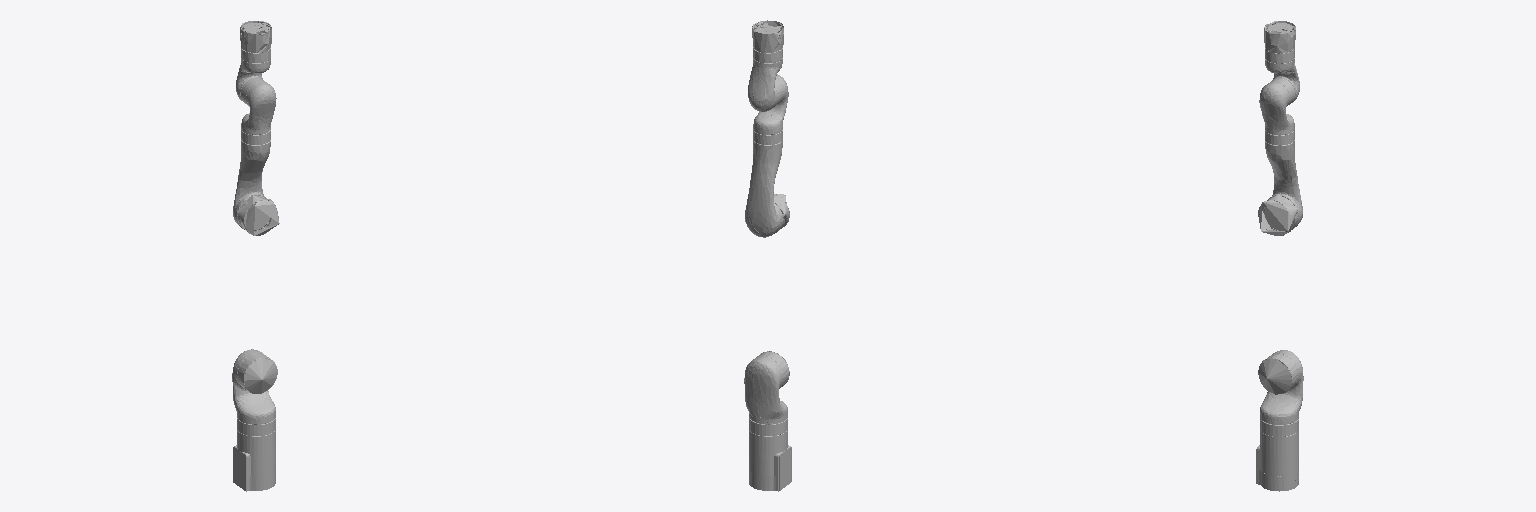
URDF robot description (gen3):
<?xml version="1.0" ?>
<robot name="gen3">
  <link name="world"/>
  
  <joint name="base_joint" type="fixed">
    <origin rpy="0 0 0" xyz="0 0 0"/>
    <parent link="world"/>
    <child link="base_link"/>
  </joint>
  <link name="base_link">
    <inertial>
      <origin rpy="0 0 0" xyz="-0.000648 -0.000166 0.084487"/>
      <mass value="1.697"/>
      <inertia ixx="0.004622" ixy="9E-06" ixz="6E-05" iyy="0.004495" iyz="9E-06" izz="0.002079"/>
    </inertial>
    <visual>
      <origin rpy="0 0 0" xyz="0 0 0"/>
      <geometry>
        <mesh filename="package://kortex_description/arms/gen3/6dof/meshes/base_link.STL"/>
      </geometry>
      <material name="">
        <color rgba="0.75294 0.75294 0.75294 1"/>
      </material>
    </visual>
    
  </link>
  <link name="shoulder_link">
    <inertial>
      <origin rpy="0 0 0" xyz="-2.3E-05 -0.010364 -0.07336"/>
      <mass value="1.377"/>
      <inertia ixx="0.00457" ixy="1E-06" ixz="2E-06" iyy="0.004831" iyz="0.000448" izz="0.001409"/>
    </inertial>
    <visual>
      <origin rpy="0 0 0" xyz="0 0 0"/>
      <geometry>
        <mesh filename="package://kortex_description/arms/gen3/6dof/meshes/shoulder_link.STL"/>
      </geometry>
      <material name="">
        <color rgba="0.75294 0.75294 0.75294 1"/>
      </material>
    </visual>
    
  </link>
  <joint name="joint_1" type="continuous">
    <origin rpy="-3.1416 0.0 0.0" xyz="0 0 0.15643"/>
    <parent link="base_link"/>
    <child link="shoulder_link"/>
    <axis xyz="0 0 1"/>
    <limit effort="39" velocity="1.3963"/>
  </joint>
  <link name="bicep_link">
    <inertial>
      <origin rpy="0 0 0" xyz="3.5E-05 -0.208207 -0.01889"/>
      <mass value="1.262"/>
      <inertia ixx="0.046752" ixy="-9E-06" ixz="0" iyy="0.00085" iyz="-9.8E-05" izz="0.047188"/>
    </inertial>
    <visual>
      <origin rpy="0 0 0" xyz="0 0 0"/>
      <geometry>
        <mesh filename="package://kortex_description/arms/gen3/6dof/meshes/bicep_link.STL"/>
      </geometry>
      <material name="">
        <color rgba="0.75294 0.75294 0.75294 1"/>
      </material>
    </visual>
    
  </link>
  <joint name="joint_2" type="revolute">
    <origin rpy="1.5708 0.0 0.0" xyz="0 0.005375 -0.12838"/>
    <parent link="shoulder_link"/>
    <child link="bicep_link"/>
    <axis xyz="0 0 1"/>
    <limit effort="39" lower="-2.24" upper="2.24" velocity="1.3963"/>
  </joint>
  <link name="forearm_link">
    <inertial>
      <origin rpy="0 0 0" xyz="1.8E-05 0.076168 -0.01397"/>
      <mass value="0.93"/>
      <inertia ixx="0.008292" ixy="-1E-06" ixz="0" iyy="0.000628" iyz="0.000432" izz="0.008464"/>
    </inertial>
    <visual>
      <origin rpy="0 0 0" xyz="0 0 0"/>
      <geometry>
        <mesh filename="package://kortex_description/arms/gen3/6dof/meshes/forearm_link.STL"/>
      </geometry>
      <material name="">
        <color rgba="0.75294 0.75294 0.75294 1"/>
      </material>
    </visual>
    
  </link>
  <joint name="joint_3" type="revolute">
    <origin rpy="3.1416 0 0" xyz="0 -0.41 0"/>
    <parent link="bicep_link"/>
    <child link="forearm_link"/>
    <axis xyz="0 0 1"/>
    <limit effort="39" lower="-2.57" upper="2.57" velocity="1.3963"/>
  </joint>
  <link name="spherical_wrist_1_link">
    <inertial>
      <origin rpy="0 0 0" xyz="-1E-06 0.008486 -0.062937"/>
      <mass value="0.6781"/>
      <inertia ixx="0.001645" ixy="0" ixz="0" iyy="0.001666" iyz="-0.000234" izz="0.000389"/>
    </inertial>
    <visual>
      <origin rpy="0 0 0" xyz="0 0 0"/>
      <geometry>
        <mesh filename="package://kortex_description/arms/gen3/6dof/meshes/spherical_wrist_1_link.STL"/>
      </geometry>
      <material name="">
        <color rgba="0.75294 0.75294 0.75294 1"/>
      </material>
    </visual>
    
  </link>
  <joint name="joint_4" type="continuous">
    <origin rpy="1.5708 0.0 0.0" xyz="0 0.20843 -0.006375"/>
    <parent link="forearm_link"/>
    <child link="spherical_wrist_1_link"/>
    <axis xyz="0 0 1"/>
    <limit effort="9" velocity="1.2218"/>
  </joint>
  <link name="spherical_wrist_2_link">
    <inertial>
      <origin rpy="0 0 0" xyz="-1E-06 0.046429 -0.008704"/>
      <mass value="0.678"/>
      <inertia ixx="0.001685" ixy="0" ixz="0" iyy="0.0004" iyz="0.000255" izz="0.001696"/>
    </inertial>
    <visual>
      <origin rpy="0 0 0" xyz="0 0 0"/>
      <geometry>
        <mesh filename="package://kortex_description/arms/gen3/6dof/meshes/spherical_wrist_2_link.STL"/>
      </geometry>
      <material name="">
        <color rgba="0.75294 0.75294 0.75294 1"/>
      </material>
    </visual>
    
  </link>
  <joint name="joint_5" type="revolute">
    <origin rpy="-1.5708 0.0 0.0" xyz="0 -0.00017505 -0.10593"/>
    <parent link="spherical_wrist_1_link"/>
    <child link="spherical_wrist_2_link"/>
    <axis xyz="0 0 1"/>
    <limit effort="9" lower="-2.09" upper="2.09" velocity="1.2218"/>
  </joint>
  <link name="bracelet_link">
    <inertial>
      <origin rpy="0 0 0" xyz="-9.3E-05 0.000132 -0.022905"/>
      <mass value="0.364"/>
      <inertia ixx="0.000214" ixy="0" ixz="1E-06" iyy="0.000223" iyz="-2E-06" izz="0.00024"/>
    </inertial>
    <visual>
      <origin rpy="0 0 0" xyz="0 0 0"/>
      <geometry>
        <mesh filename="package://kortex_description/arms/gen3/6dof/meshes/bracelet_no_vision_link.STL"/>
      </geometry>
      <material name="">
        <color rgba="0.75294 0.75294 0.75294 1"/>
      </material>
    </visual>
    
  </link>
  <joint name="joint_6" type="continuous">
    <origin rpy="1.5708 0.0 0.0" xyz="0 0.10593 -0.00017505"/>
    <parent link="spherical_wrist_2_link"/>
    <child link="bracelet_link"/>
    <axis xyz="0 0 1"/>
    <limit effort="9" velocity="1.2218"/>
  </joint>
  <link name="end_effector_link"/>
  <joint name="end_effector" type="fixed">
    <origin rpy="3.14159265358979 1.09937075168372E-32 3.14159265358979" xyz="0 0 -0.0615250000000001"/>
    <parent link="bracelet_link"/>
    <child link="end_effector_link"/>
    <axis xyz="0 0 0"/>
  </joint>
  <link name="tool_frame"/>
  <joint name="tool_frame_joint" type="fixed">
    <origin rpy="0 0 0" xyz="0 0 0"/>
    <parent link="end_effector_link"/>
    <child link="tool_frame"/>
    <axis xyz="0 0 0"/>
  </joint>
</robot>

--- Render facts (derived) ---
3 views of the same robot in one strip: view 1: azimuth 30°, elevation 25°; view 2: azimuth 150°, elevation 25°; view 3: azimuth 330°, elevation 25° (orthographic).
Robot: gen3 — 10 links, 9 joints (3 revolute, 3 continuous, 3 fixed); root link world; default pose: every joint at zero.
Visible links, largest first — view 1: base_link, forearm_link, bicep_link, shoulder_link, spherical_wrist_1_link, bracelet_link, spherical_wrist_2_link; view 2: forearm_link, base_link, shoulder_link, spherical_wrist_2_link, spherical_wrist_1_link, bracelet_link; view 3: base_link, forearm_link, bicep_link, shoulder_link, spherical_wrist_1_link, bracelet_link, spherical_wrist_2_link.
Boxes of the visible links, x1,y1,x2,y2 form: base_link: (233, 418, 275, 491); forearm_link: (233, 130, 270, 231); bicep_link: (236, 195, 279, 393); shoulder_link: (232, 349, 275, 424); spherical_wrist_1_link: (241, 77, 276, 134); bracelet_link: (240, 21, 271, 52); spherical_wrist_2_link: (236, 48, 270, 100); forearm_link: (745, 129, 784, 237); base_link: (749, 418, 791, 491); shoulder_link: (744, 351, 788, 424); spherical_wrist_2_link: (748, 47, 782, 111); spherical_wrist_1_link: (753, 74, 788, 134); bracelet_link: (752, 20, 783, 52); base_link: (1256, 419, 1298, 491); forearm_link: (1263, 130, 1302, 231); bicep_link: (1258, 194, 1297, 394); shoulder_link: (1259, 350, 1303, 424); spherical_wrist_1_link: (1259, 78, 1294, 135); bracelet_link: (1264, 21, 1295, 53); spherical_wrist_2_link: (1265, 48, 1299, 102).
Bounding box of the posed robot: 0.0967 × 0.1065 × 1.18 m (x, y, z).
Meshes: 7 distinct files referenced, 7 mesh visuals loaded (7 binary STL).
